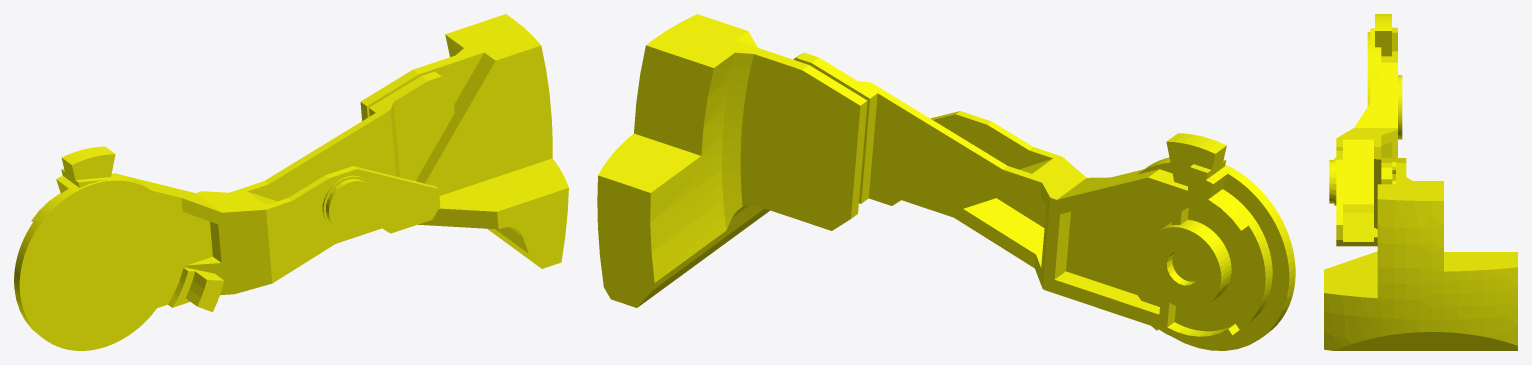
3 renders of one model, left to right at view 1: azimuth 30°, elevation 25°; view 2: azimuth 150°, elevation 25°; view 3: azimuth 270°, elevation 25°, orthographic. The views are drawn at different scales.
Parts seen in each view (by area): view 1: node; view 2: node; view 3: node.
Part boxes in pixels (x1,y1,x2,y2): node: (14, 14, 568, 350); node: (597, 14, 1295, 350); node: (1324, 14, 1517, 350).
Size of the model in its own units: 1393 by 470 by 525.
